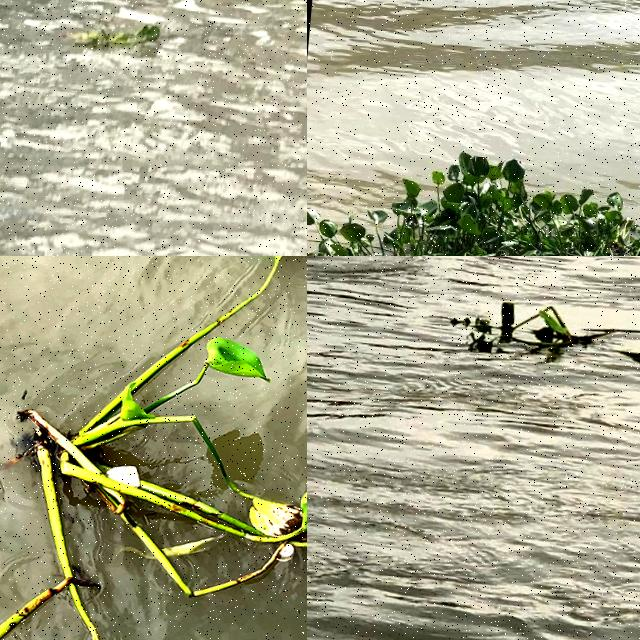water-hyacinth: (1, 257, 308, 640), (308, 135, 640, 257), (438, 288, 629, 368), (59, 8, 167, 61)
